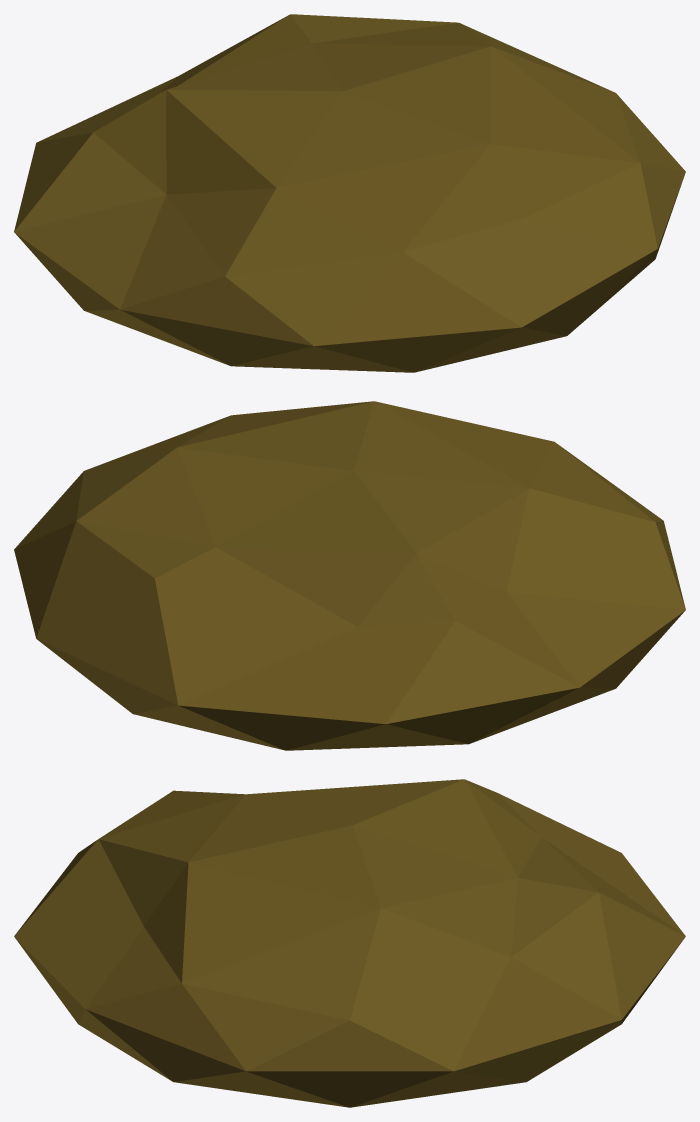
File: dirt_pile.fbx
3 renders of one model, top to bottom at view 1: azimuth 30°, elevation 25°; view 2: azimuth 150°, elevation 25°; view 3: azimuth 270°, elevation 25°, orthographic. The views are drawn at different scales.
Visible parts, largest first — view 1: Icosphere; view 2: Icosphere; view 3: Icosphere.
Boxes of the visible parts, x1,y1,x2,y2 form: Icosphere: (14,14,685,372); Icosphere: (14,401,685,750); Icosphere: (14,779,685,1107).
Size of the model in its own units: 123 by 43.56 by 130.
